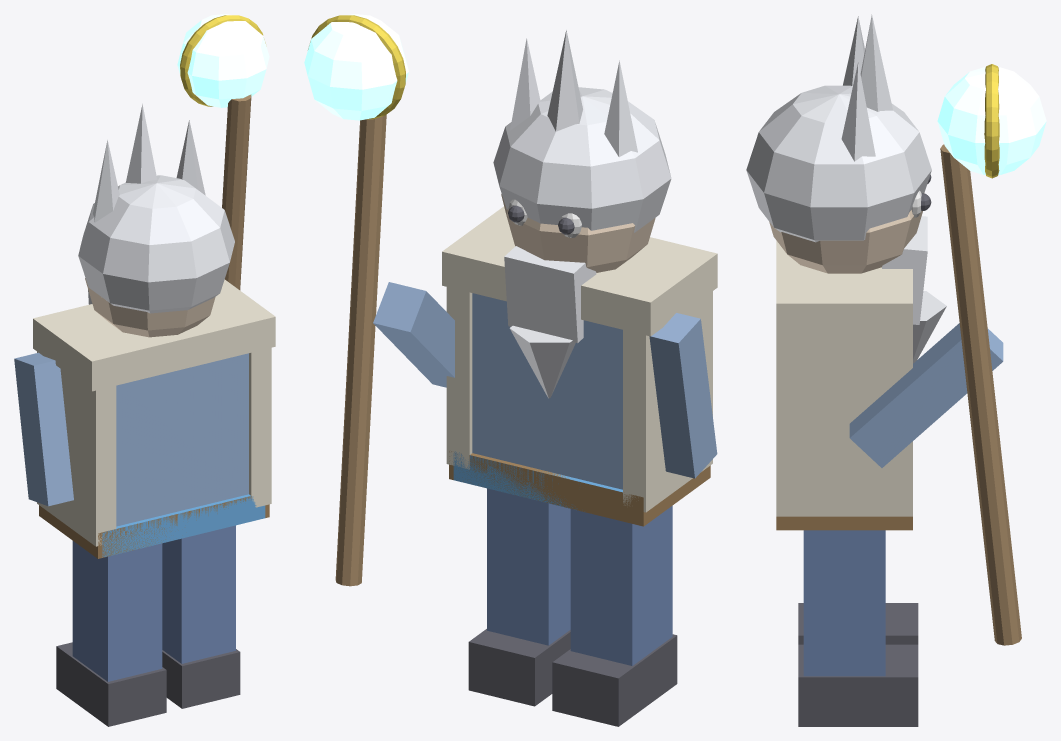
Rendered from ice_wizard.glb.
The picture shows the model from 3 angles, left to right: view 1: azimuth 30°, elevation 25°; view 2: azimuth 150°, elevation 25°; view 3: azimuth 270°, elevation 25°; orthographic projection. The views are drawn at different scales.
Parts seen in each view (by area): view 1: ice_wizard; view 2: ice_wizard; view 3: ice_wizard.
Boxes of the visible parts, x1,y1,x2,y2 form: ice_wizard: (14, 14, 275, 726); ice_wizard: (304, 14, 717, 726); ice_wizard: (746, 14, 1046, 726).
Bounding box in the file's own units: 1.41 × 2.81 × 1.1.
